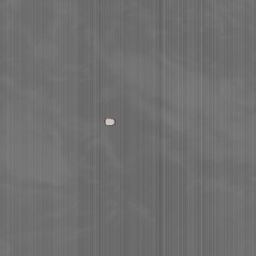Target: (103, 116, 118, 127)
